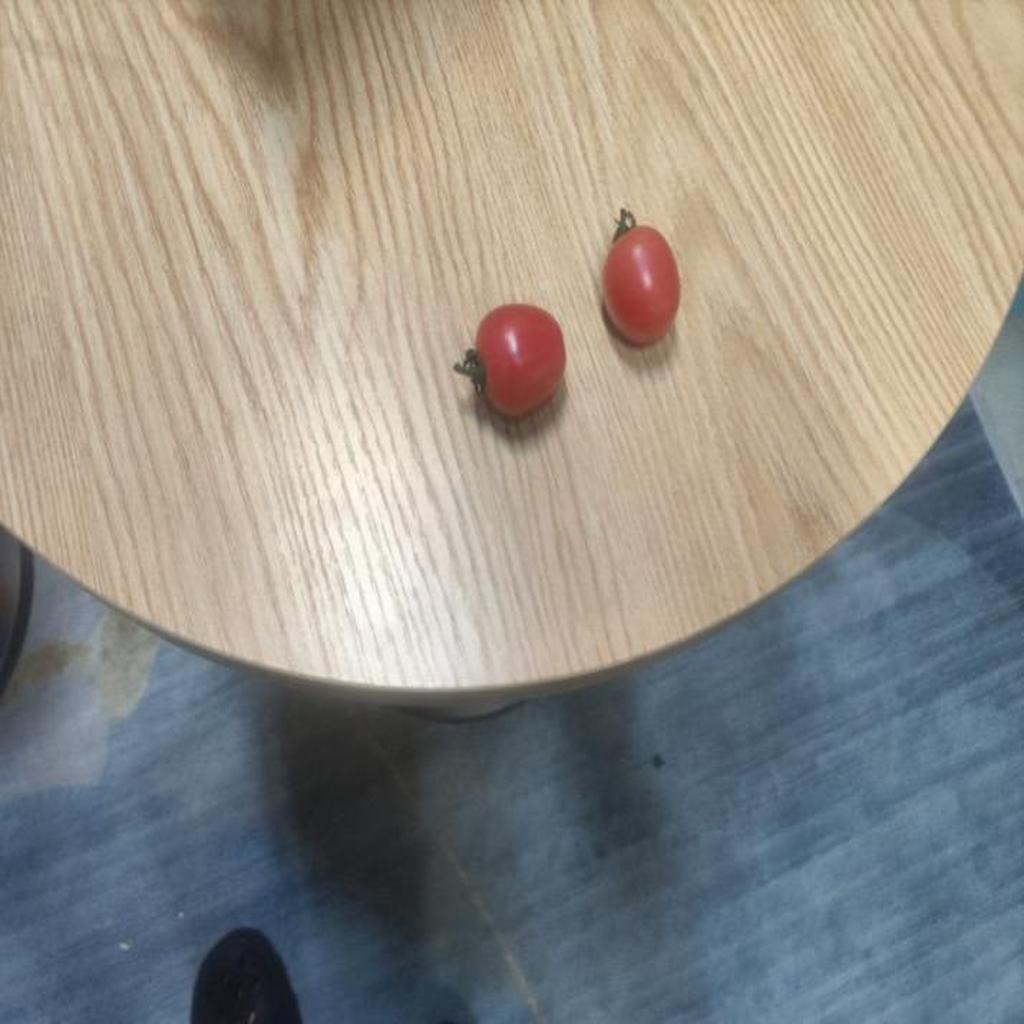tomato: (459, 303, 575, 413), (602, 220, 681, 350)
